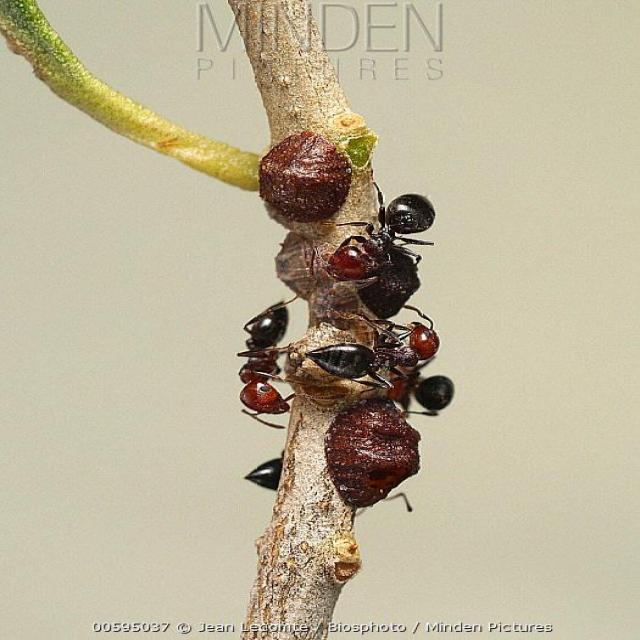Black Scale: (324, 398, 419, 511), (260, 131, 351, 222), (360, 251, 419, 318), (276, 232, 316, 300), (327, 528, 360, 586)
